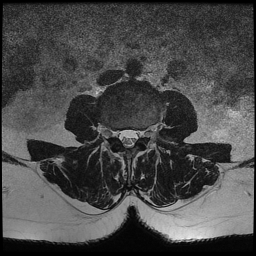CCS_normal: (124, 121, 131, 155)
LFS_normal: (139, 120, 148, 145)
LLS_normal: (131, 120, 139, 151)
RFS_normal: (109, 122, 117, 144)
RLS_normal: (117, 122, 125, 150)
